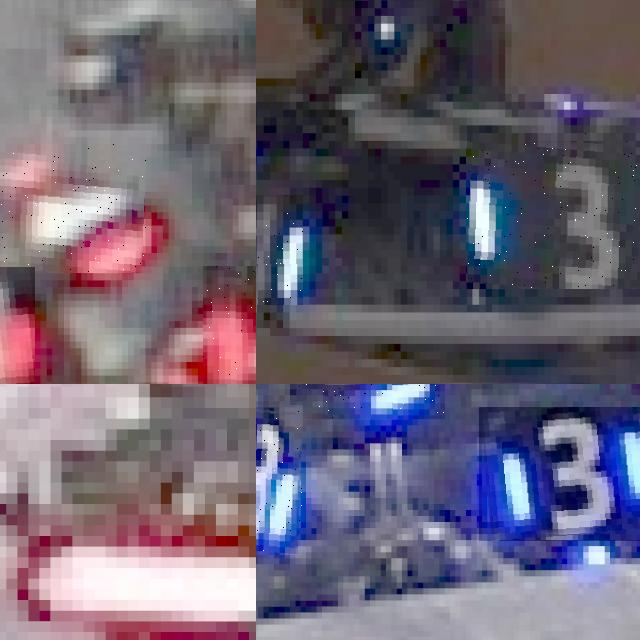B3: (466, 133, 640, 289), (479, 407, 640, 540), (256, 404, 303, 555), (290, 384, 444, 419)
B4: (256, 195, 303, 304)
R4: (0, 143, 145, 273), (203, 266, 256, 384), (0, 266, 34, 384)
